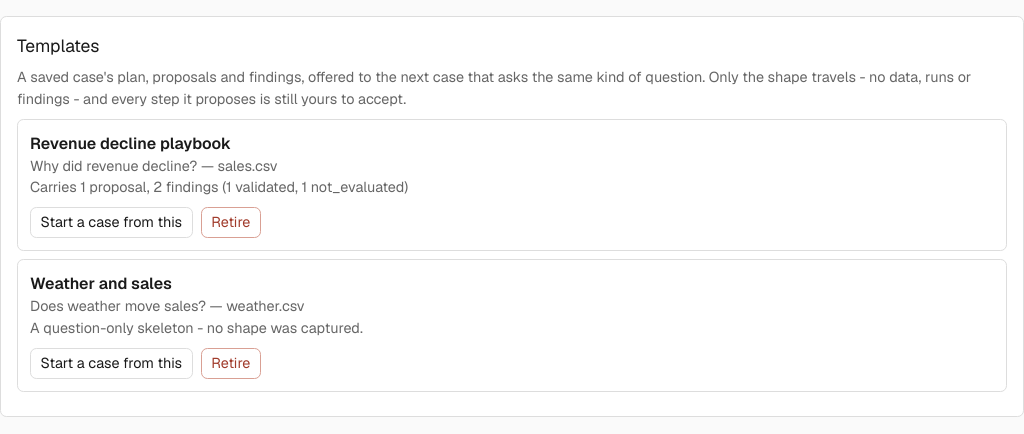
Test: Templates › retires a template and the list shows the rest
This screenshot has width=1024, height=434.
Expected: the text "Revenue decline playbook" is shown, [30, 133, 231, 154]
Click the button with aria-label "retire the template revenue decline playbook".
click(231, 223)  # box [201, 207, 261, 238]
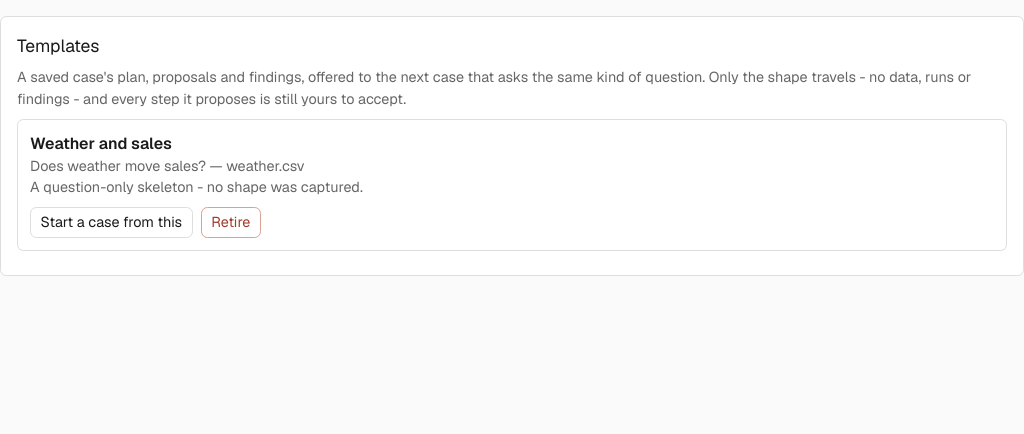
Expected: the text "Weather and sales" is shown, [30, 133, 172, 154]
Expected: the text "Revenue decline playbook" is gone
